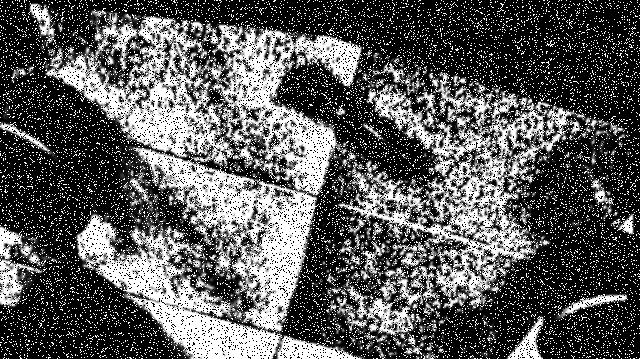pot: (0, 72, 113, 238), (536, 225, 633, 359)
